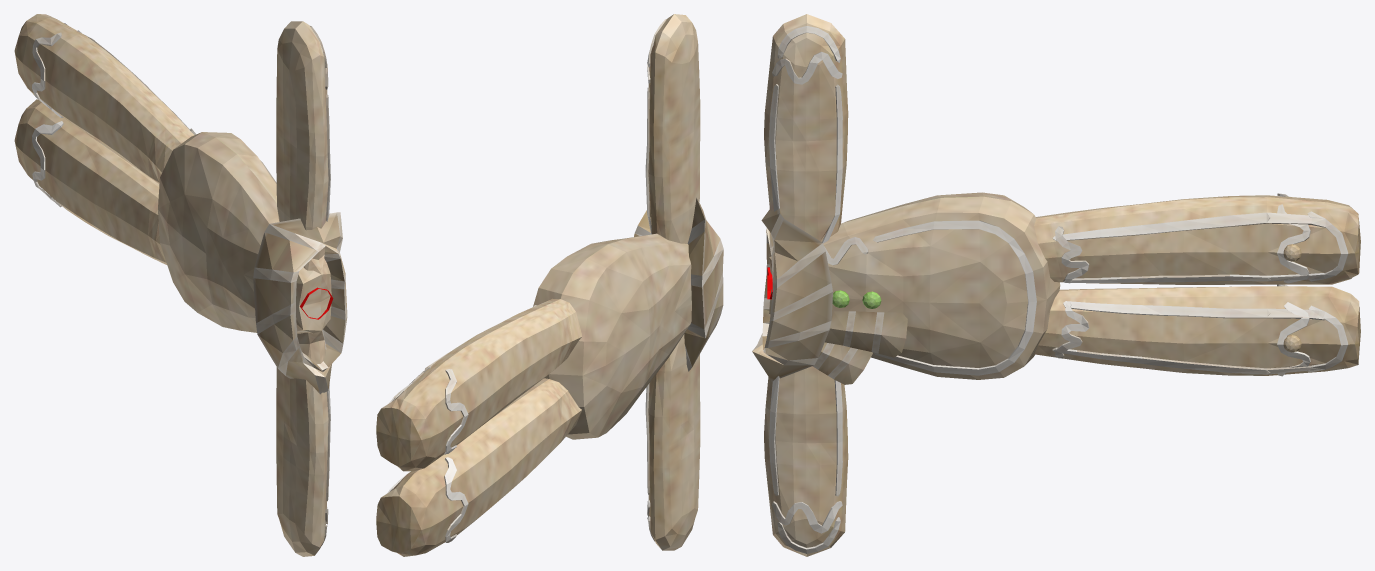
File: body148.obj
The picture shows the model from 3 angles, left to right: view 1: azimuth 30°, elevation 25°; view 2: azimuth 150°, elevation 25°; view 3: azimuth 270°, elevation 25°; orthographic projection.
Visible parts, largest first — view 1: h_body148_0, h_body148_4, h_body148_5; view 2: h_body148_4, h_body148_0, h_body148_5; view 3: h_body148_4, h_body148_0, l_body148_4.
Part boxes in pixels (x1,y1,x2,y2): h_body148_0: (206, 21, 347, 556); h_body148_4: (14, 14, 262, 326); h_body148_5: (94, 175, 120, 240); h_body148_4: (376, 243, 650, 556); h_body148_0: (592, 14, 723, 550); h_body148_5: (506, 433, 529, 485); h_body148_4: (929, 192, 1360, 379); h_body148_0: (752, 14, 940, 556); l_body148_4: (1052, 212, 1325, 374).
Bounding box in the file's own units: 0.3665 × 2.49 × 2.53.
Materials: 2 (1 with a texture image).
